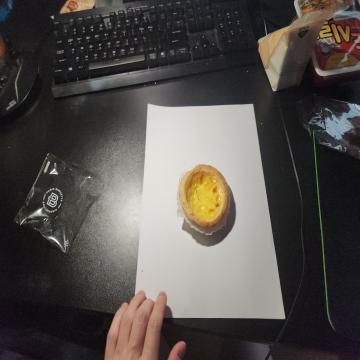EggTart: (179, 164, 229, 230)
